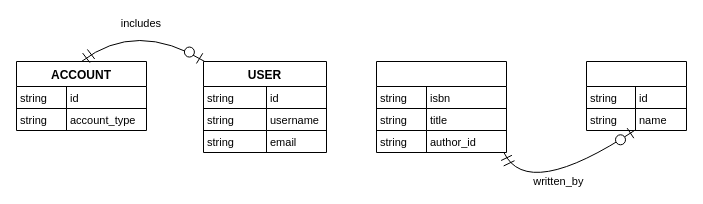
Some shapes in this 703 by 204 pixel diagram are drawn without their labels. The shapes that lost their labels are listed below. From the top down, each one's box as (x1, y1, x2, y2) in pixels, then its label:
(376, 60, 506, 152): BOOK
(586, 60, 686, 130): AUTHOR
